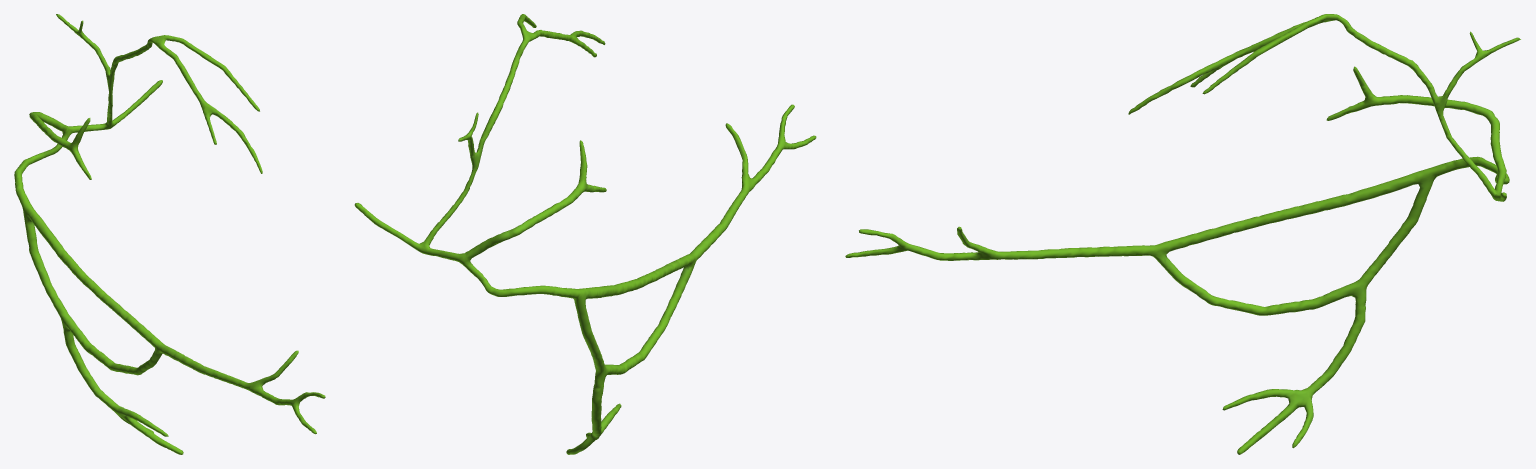
Rendered from Facial_nerve_R.glb.
3 views of the same model, side by side, from view 1: azimuth 30°, elevation 25°; view 2: azimuth 150°, elevation 25°; view 3: azimuth 270°, elevation 25° (orthographic). The views are drawn at different scales.
Visible parts, largest first — view 1: Facial_nerve_R.001; view 2: Facial_nerve_R.001; view 3: Facial_nerve_R.001.
Part boxes in pixels (<box>): Facial_nerve_R.001: <box>14,14,325,454</box>; Facial_nerve_R.001: <box>354,14,816,454</box>; Facial_nerve_R.001: <box>845,14,1520,454</box>.
Size of the model in its own units: 0.1363 by 0.2935 by 0.3977.
Materials: 1 (1 with a texture image).
